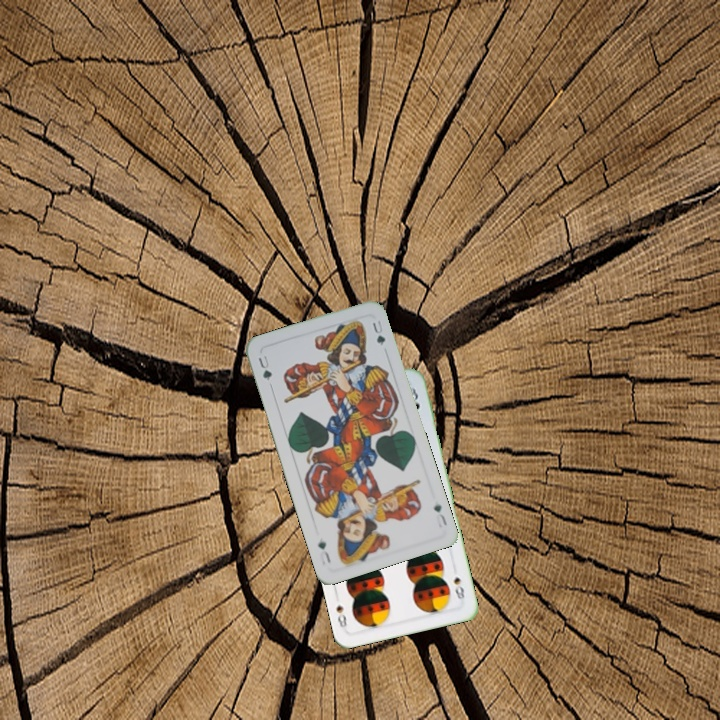GU: (254, 351, 275, 389), (430, 499, 449, 528)
S8: (450, 573, 467, 602)
